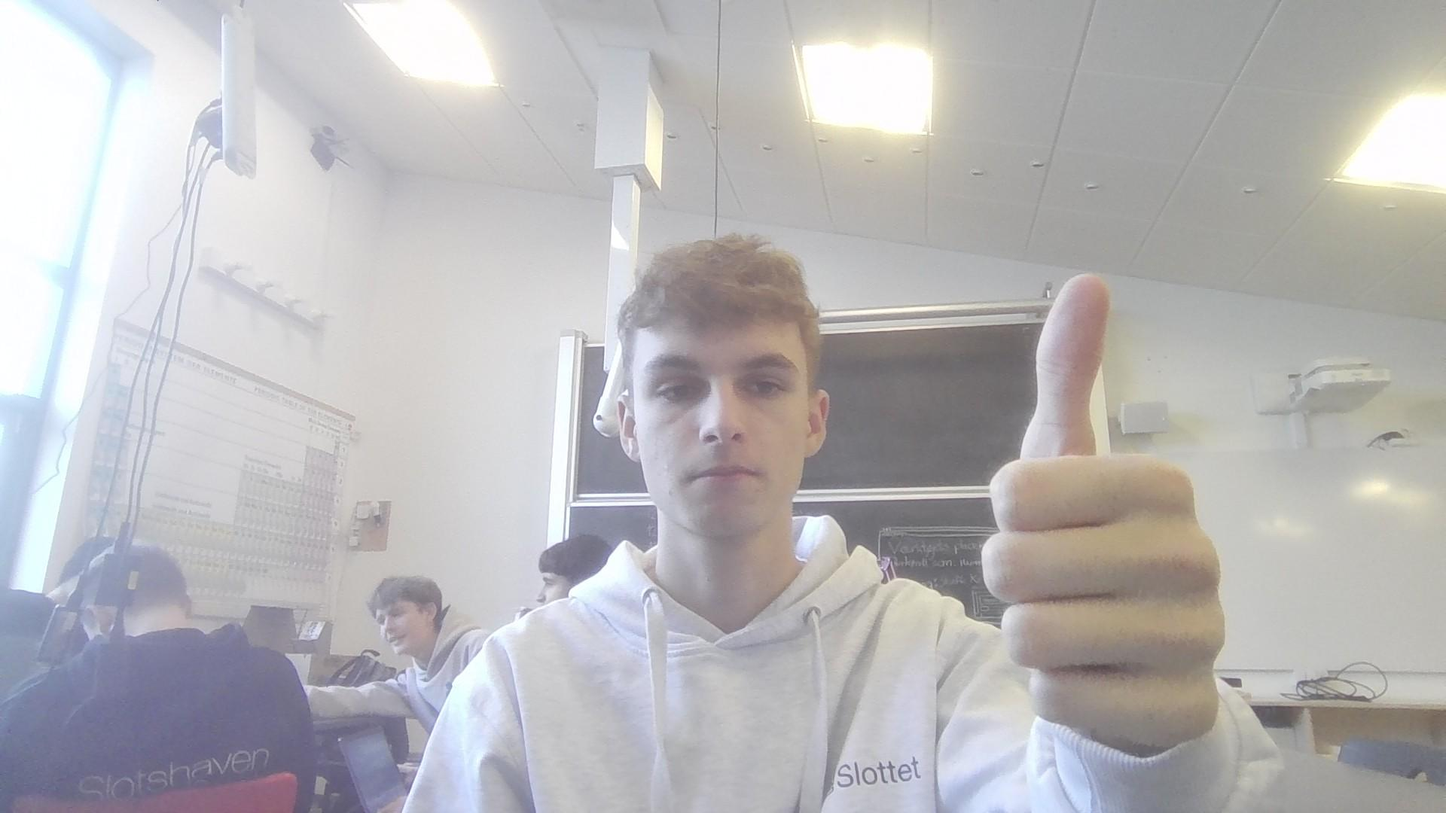thumbs up: (973, 264, 1231, 754)
